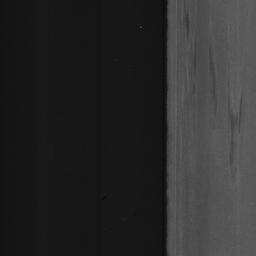Silk spot: (223, 91, 245, 178), (209, 45, 219, 117), (189, 28, 202, 80), (183, 169, 189, 218), (183, 0, 189, 40), (196, 201, 207, 219), (193, 98, 203, 117), (194, 124, 203, 138), (183, 235, 189, 248)
